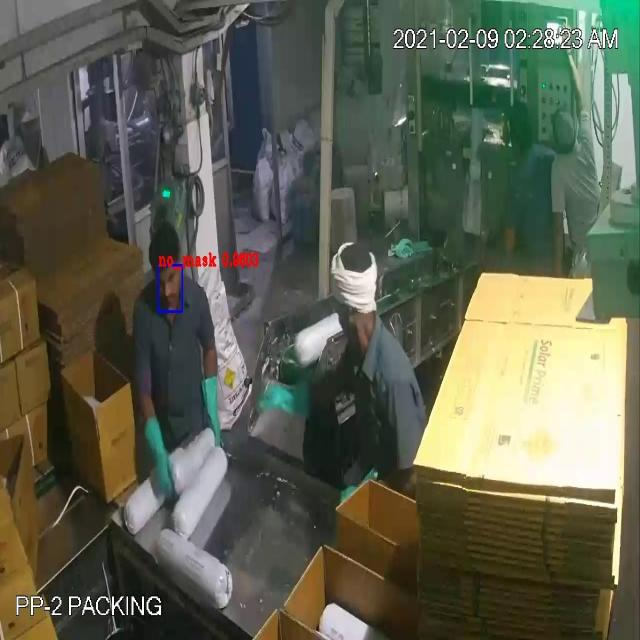gloves: (258, 372, 326, 438), (139, 410, 181, 504), (195, 372, 235, 464)
no-gloves: (558, 37, 592, 123), (548, 204, 572, 287)
